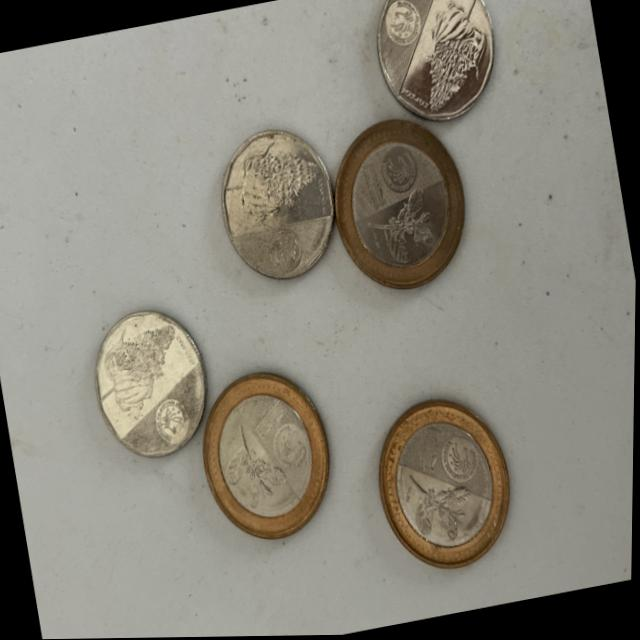10_New_Back: (87, 304, 190, 424), (218, 125, 328, 229), (408, 0, 499, 112)
20_New_Back: (215, 409, 301, 520), (358, 181, 451, 278), (393, 467, 491, 557)
